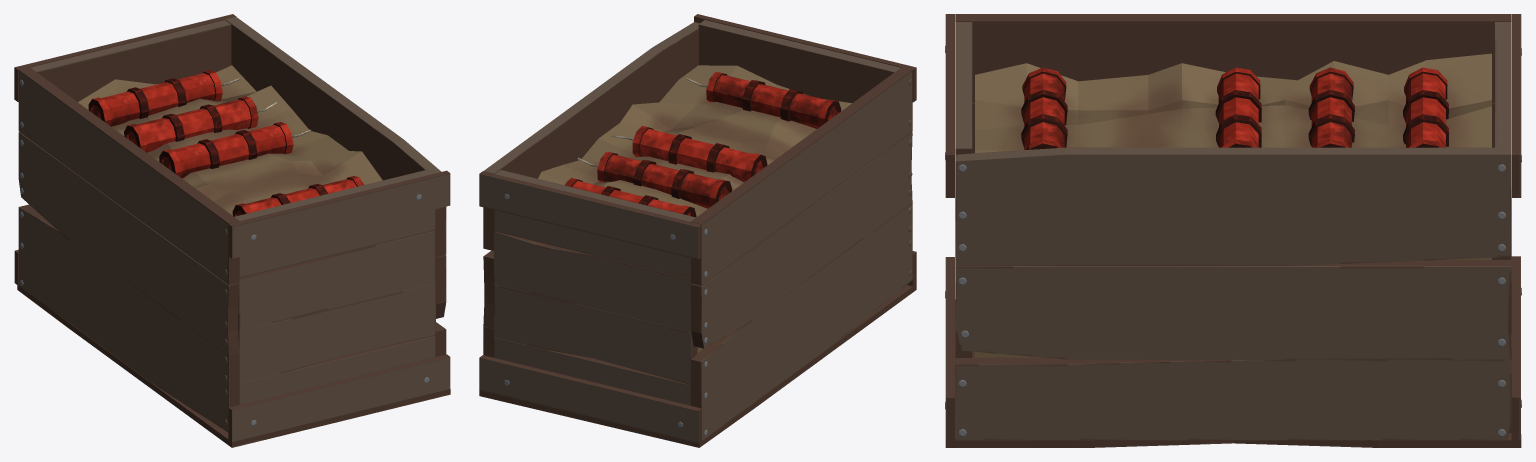
File: Crate_LidOpen_TNTUsed.fbx
3 renders of one model, left to right at view 1: azimuth 30°, elevation 25°; view 2: azimuth 150°, elevation 25°; view 3: azimuth 270°, elevation 25°, orthographic. The views are drawn at different scales.
Visible parts, largest first — view 1: Side_03, Side_02, Hay, Side_01, Side_04, polySurface18.002, TNT, polySurface18.001, Crate, polySurface18.004; view 2: Side_03, Side_04, Hay, Side_01, Side_02, polySurface18.004, polySurface18.002, polySurface18.001, Crate, TNT; view 3: Side_01, Side_03, Hay, Side_02, Side_04, Crate, polySurface18.004, polySurface18.002, polySurface18.001, TNT.
Boxes of the visible parts, x1,y1,x2,y2 form: Side_03: (18, 67, 239, 431); Side_02: (228, 169, 450, 441); Hay: (78, 65, 382, 215); Side_01: (225, 17, 446, 356); Side_04: (14, 14, 236, 285); polySurface18.002: (159, 122, 311, 178); TNT: (88, 70, 240, 126); polySurface18.001: (124, 96, 277, 152); Crate: (17, 285, 450, 447); polySurface18.004: (232, 176, 363, 216); Side_03: (690, 67, 912, 440); Side_04: (479, 170, 701, 443); Hay: (538, 65, 851, 353); Side_01: (483, 22, 699, 357); Side_02: (694, 14, 916, 286); polySurface18.004: (686, 72, 841, 128); polySurface18.002: (611, 126, 767, 182); polySurface18.001: (577, 151, 732, 208); Crate: (479, 284, 916, 447); TNT: (565, 177, 696, 217); Side_01: (955, 147, 1511, 440); Side_03: (955, 14, 1511, 259); Hay: (975, 53, 1491, 357); Side_02: (945, 14, 972, 440); Side_04: (1495, 14, 1521, 440); Crate: (945, 299, 1521, 447); polySurface18.004: (1021, 67, 1067, 149); polySurface18.002: (1215, 67, 1261, 147); polySurface18.001: (1308, 67, 1354, 147); TNT: (1403, 67, 1448, 147).
Bounding box in the file's own units: 71.89 × 69.43 × 124.
